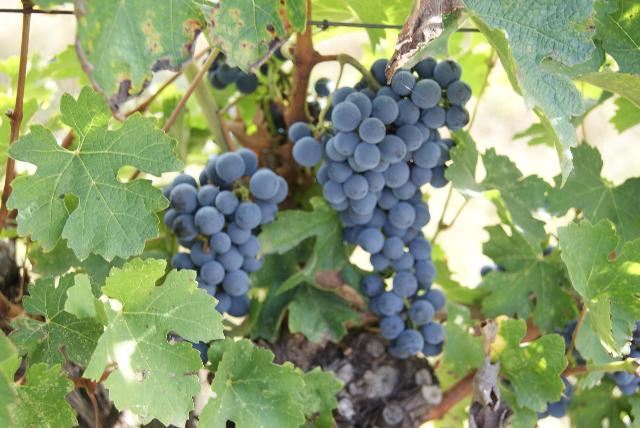grapes: (289, 58, 472, 359), (164, 148, 288, 318)
